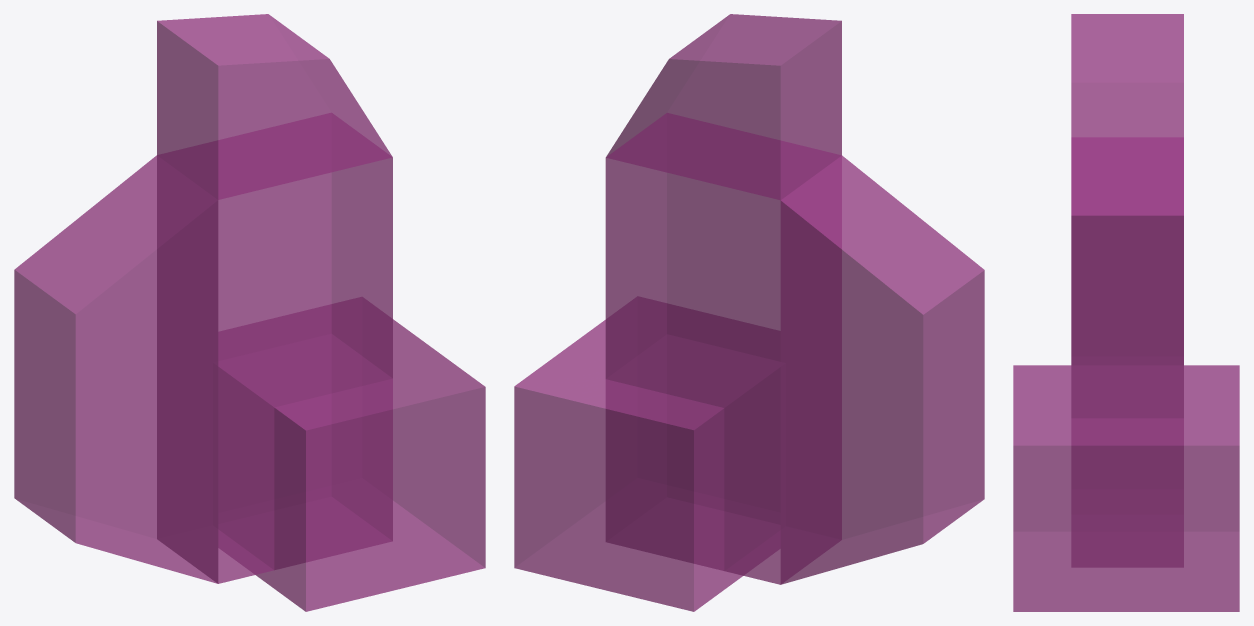
File: SM_Bld_Roof_Trim_Cap_03_Collision_01.fbx
3 renders of one model, left to right at view 1: azimuth 30°, elevation 25°; view 2: azimuth 150°, elevation 25°; view 3: azimuth 270°, elevation 25°, orthographic. The views are drawn at different scales.
Parts seen in each view (by area): view 1: SM_Bld_Roof_Trim_Cap_03_Collision_01; view 2: SM_Bld_Roof_Trim_Cap_03_Collision_01; view 3: SM_Bld_Roof_Trim_Cap_03_Collision_01.
Boxes of the visible parts, bbox=[...] form: SM_Bld_Roof_Trim_Cap_03_Collision_01: bbox=[14, 14, 485, 611]; SM_Bld_Roof_Trim_Cap_03_Collision_01: bbox=[514, 14, 984, 611]; SM_Bld_Roof_Trim_Cap_03_Collision_01: bbox=[1013, 14, 1239, 611].
Bounding box in the file's own units: 63.34 × 85.93 × 35.75.
